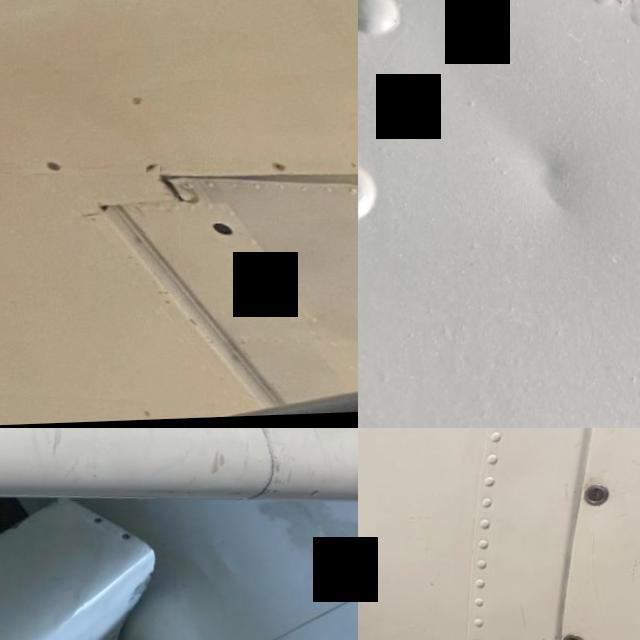Dent: (488, 128, 618, 254)
Missing_Fastener: (262, 164, 294, 182), (146, 165, 160, 177)
